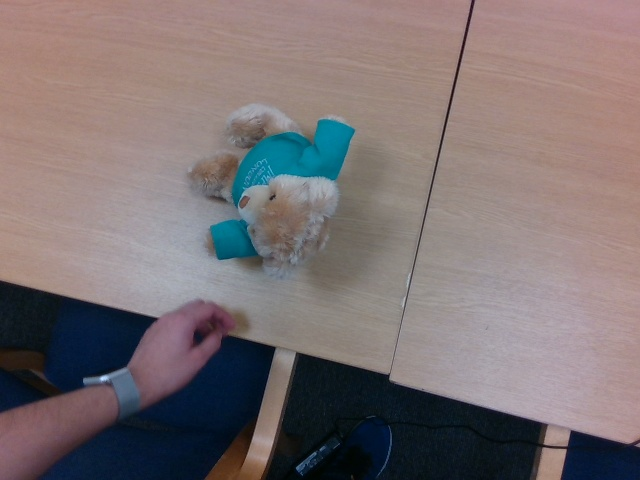teddy: (186, 102, 354, 278)
